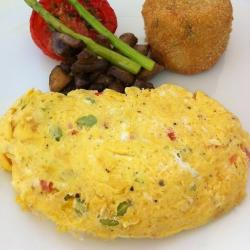omelette: (3, 85, 245, 236)
